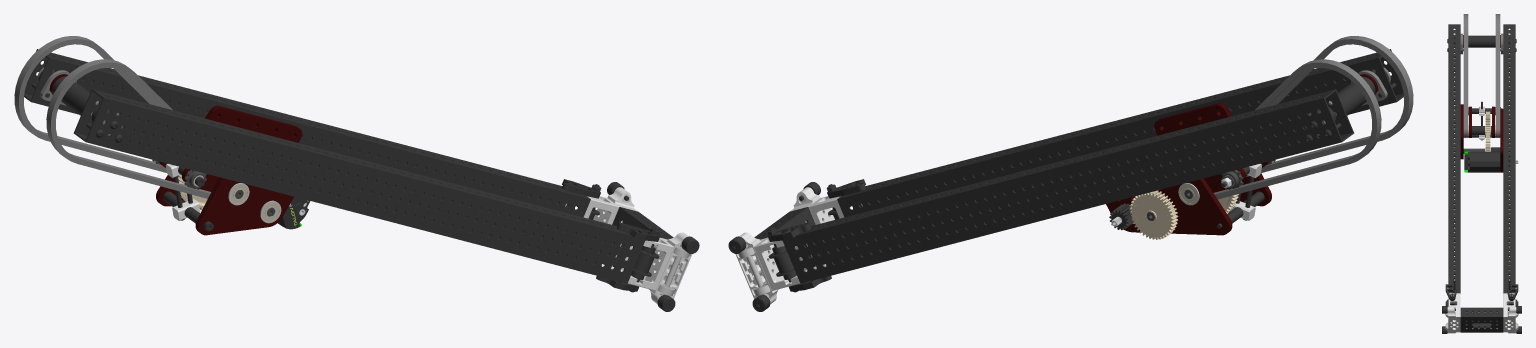
3 views of the same model, side by side, from view 1: azimuth 30°, elevation 25°; view 2: azimuth 150°, elevation 25°; view 3: azimuth 270°, elevation 25° (orthographic). The views are drawn at different scales.
Visible parts, largest first — view 1: Tube 2"x1"x28.5" (×2), 112L #25 Chain (×2), small plate, bigger plate, WCP-2113-001 Rev1 (×2), WCP-2072-001 Rev1, pipe, Tube 2"x1"x3.5", Kraken X44 Brushless Motor; view 2: Tube 2"x1"x28.5" (×2), 112L #25 Chain (×2), bigger plate, 40t Aluminum Spur Gear (20 DP, 3/8" Hex Bore), WCP-2113-001 Rev1 (×2), small plate, WCP-2072-001 Rev1-Mirrored, pipe, Tube 2"x1"x3.5"; view 3: Tube 2"x1"x28.5" (×2), 112L #25 Chain (×2), Tube 2"x1"x3.5", Kraken X44 Brushless Motor, pipe, WCP-2072-001 Rev1-Mirrored, WCP-2072-001 Rev1, Continuous Elevator Hardstop (×2), WCP-2113-001 Rev1 (×2), bigger plate, small plate, 60t Pocketed Aluminum Spur Gear (20 DP, 1/2" Hex Bore) (+3 smaller).
Part boxes in pixels (box(x1,y1,x2,y2)): Tube 2"x1"x28.5" (×2): box(24, 49, 644, 283); 112L #25 Chain (×2): box(14, 36, 211, 198); small plate: box(195, 177, 293, 235); bigger plate: box(156, 105, 302, 206); WCP-2113-001 Rev1 (×2): box(565, 196, 673, 290); WCP-2072-001 Rev1: box(648, 232, 692, 303); pipe: box(38, 69, 110, 122); Tube 2"x1"x3.5": box(612, 207, 673, 239); Kraken X44 Brushless Motor: box(278, 197, 310, 229); Tube 2"x1"x28.5" (×2): box(783, 49, 1403, 283); 112L #25 Chain (×2): box(1213, 36, 1413, 199); bigger plate: box(1106, 178, 1232, 235); 40t Aluminum Spur Gear (20 DP, 3/8" Hex Bore): box(1129, 190, 1178, 239); WCP-2113-001 Rev1 (×2): box(754, 196, 862, 290); small plate: box(1154, 103, 1271, 206); WCP-2072-001 Rev1-Mirrored: box(735, 232, 779, 303); pipe: box(1317, 69, 1389, 122); Tube 2"x1"x3.5": box(754, 207, 815, 239); Tube 2"x1"x28.5" (×2): box(1448, 24, 1515, 293); 112L #25 Chain (×2): box(1463, 14, 1500, 137); Tube 2"x1"x3.5": box(1460, 307, 1503, 332); Kraken X44 Brushless Motor: box(1464, 151, 1518, 172); pipe: box(1453, 35, 1510, 47); WCP-2072-001 Rev1-Mirrored: box(1503, 306, 1515, 333); WCP-2072-001 Rev1: box(1448, 306, 1460, 333); Continuous Elevator Hardstop (×2): box(1445, 280, 1518, 300); WCP-2113-001 Rev1 (×2): box(1448, 293, 1515, 307); bigger plate: box(1500, 109, 1503, 172); small plate: box(1460, 104, 1463, 159); 60t Pocketed Aluminum Spur Gear (20 DP, 1/2" Hex Bore): box(1485, 111, 1490, 145).
Size of the model in its own units: 0.7559 by 0.4213 by 0.1664.
